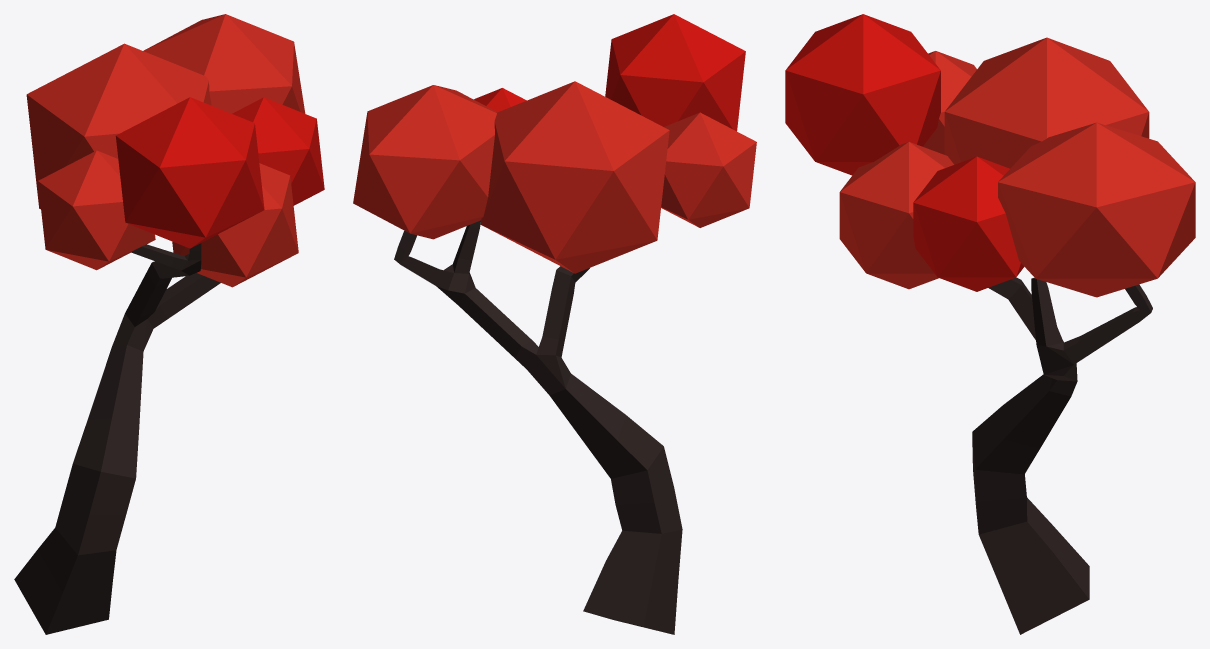
Rendered from tree.obj.
3 views of the same model, side by side, from view 1: azimuth 30°, elevation 25°; view 2: azimuth 150°, elevation 25°; view 3: azimuth 270°, elevation 25° (orthographic). The views are drawn at different scales.
Visible parts, largest first — view 1: Cube.001; view 2: Cube.001; view 3: Cube.001.
Boxes of the visible parts, bbox=[...] form: Cube.001: bbox=[14, 14, 324, 634]; Cube.001: bbox=[353, 14, 756, 634]; Cube.001: bbox=[785, 14, 1195, 634].
Size of the model in its own units: 9.99 by 16.97 by 10.07.
